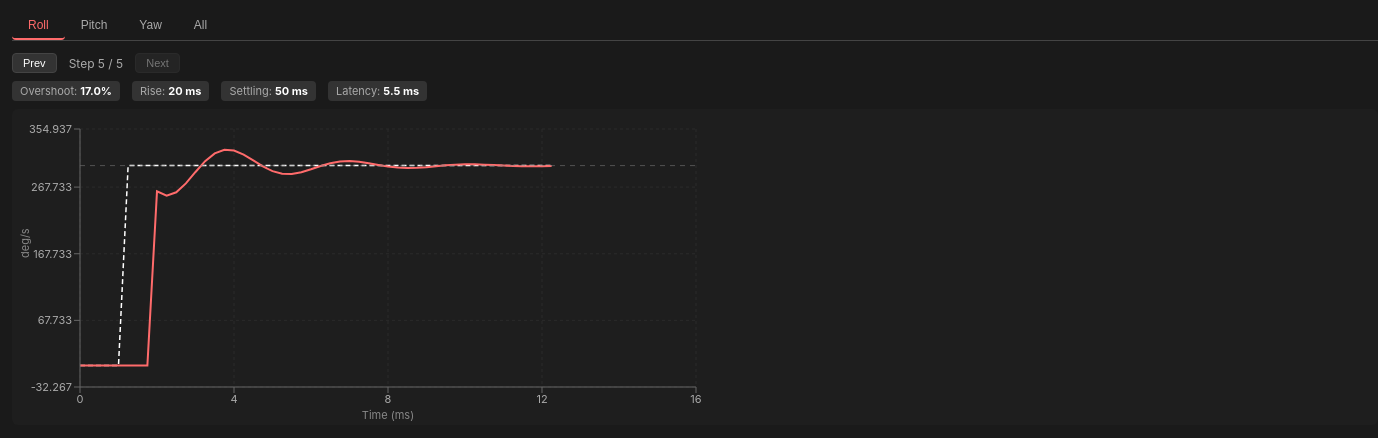
StepResponseChart › hides step navigator in All mode
Click the tab "All" at (200, 26), box [178,12,223,40]
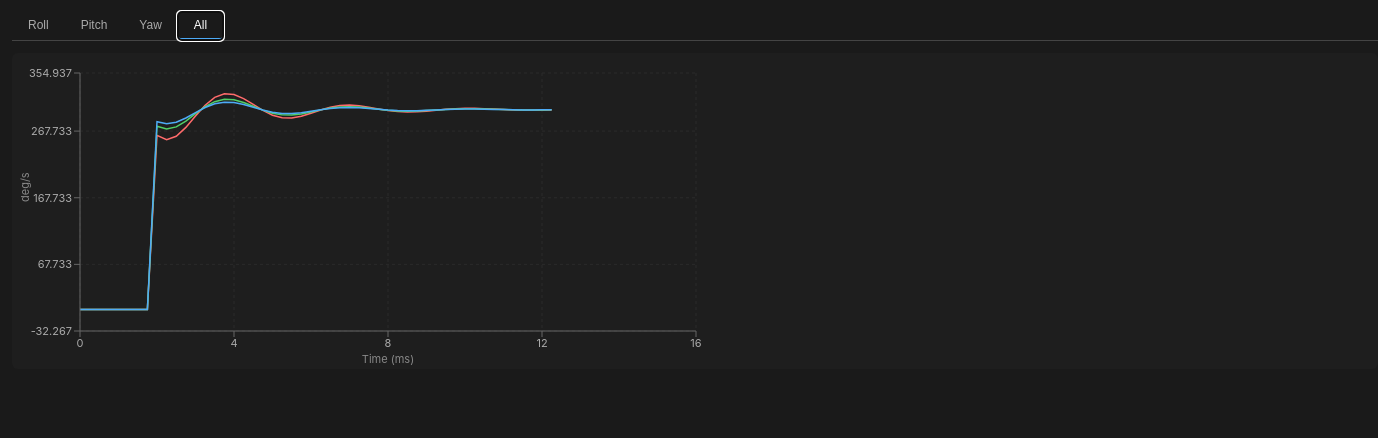
Check: the text "Step 5 / 5" is gone
